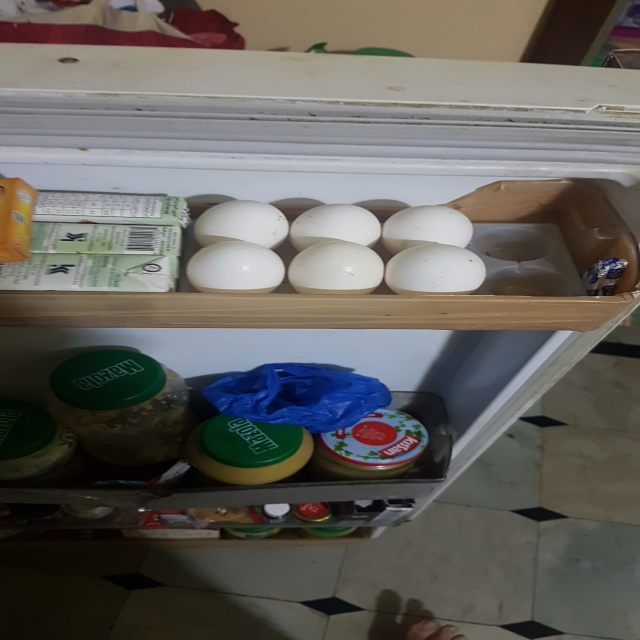eggs: (286, 244, 382, 301), (383, 249, 489, 300), (381, 198, 474, 254), (184, 243, 282, 296), (194, 198, 293, 248), (289, 199, 384, 250)
